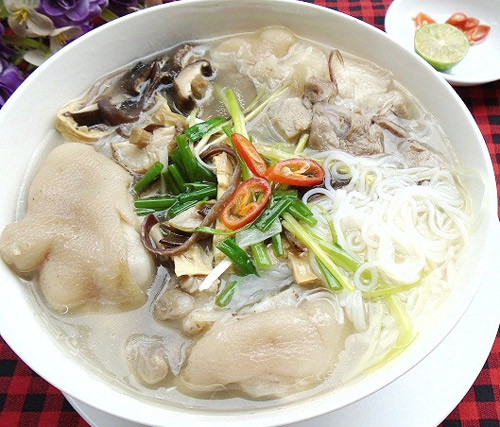chilli: (218, 178, 272, 228), (265, 160, 325, 187)
onion: (146, 126, 218, 203)
pork: (2, 140, 147, 310), (126, 288, 347, 396), (304, 75, 386, 153)
